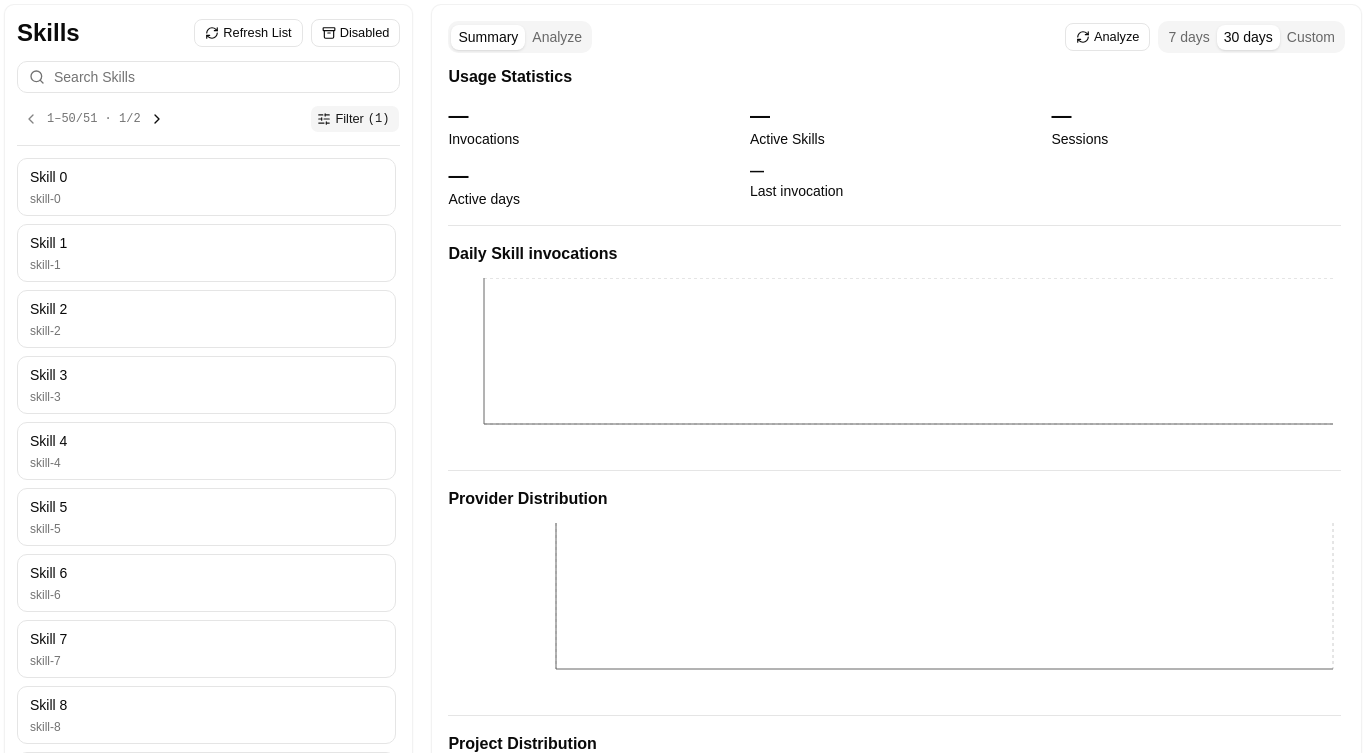
Test: SkillsPage › paginates the catalog in pages of fifty
The image size is (1366, 753).
Expected: the text "1–50/51 · 1/2" is shown, left=47, top=111, right=141, bottom=127
Expected: the text "Skill 0" is shown, left=30, top=169, right=67, bottom=185
What coordinates should you click on to do the following:
click the button named "Next"
I would click on:
 (157, 119)
Its box is left=143, top=105, right=171, bottom=133.
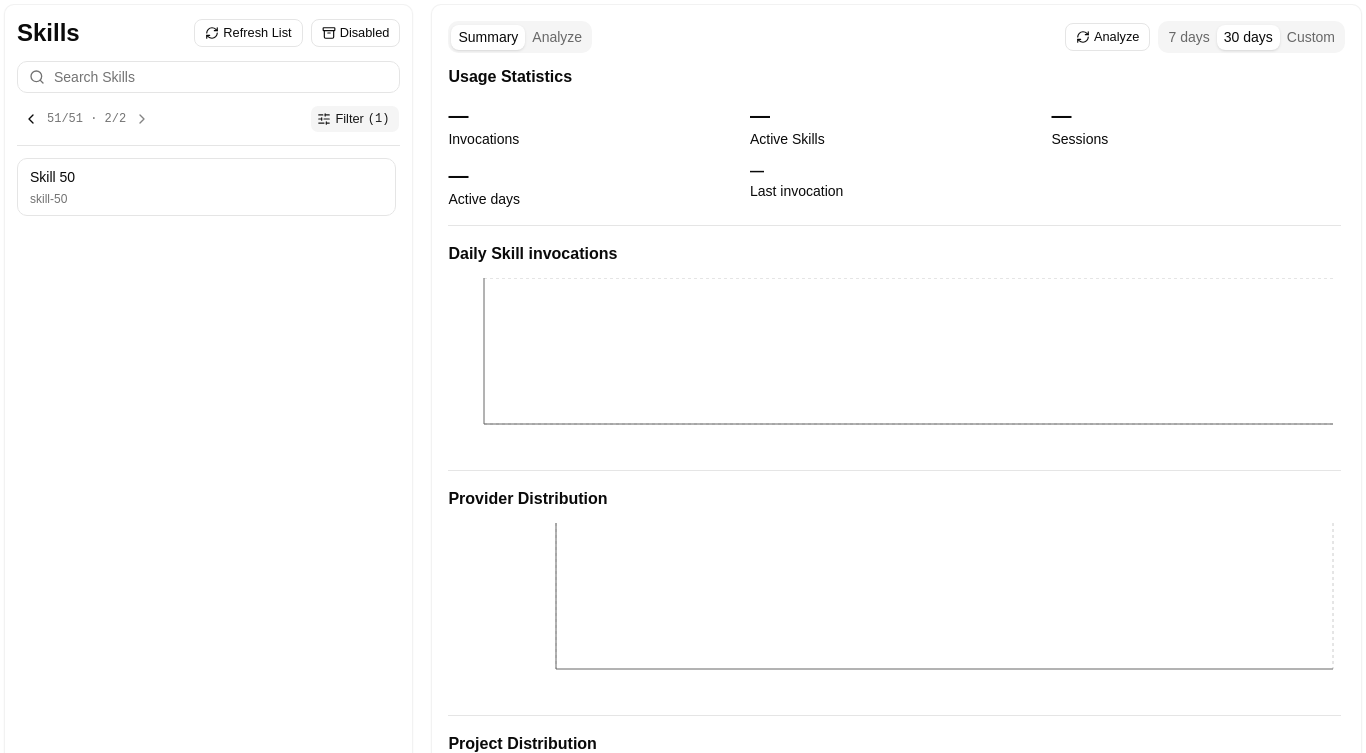
Now the text "51/51 · 2/2" is shown, box left=47, top=111, right=126, bottom=127
Now the text "Skill 50" is shown, box left=30, top=169, right=75, bottom=185
